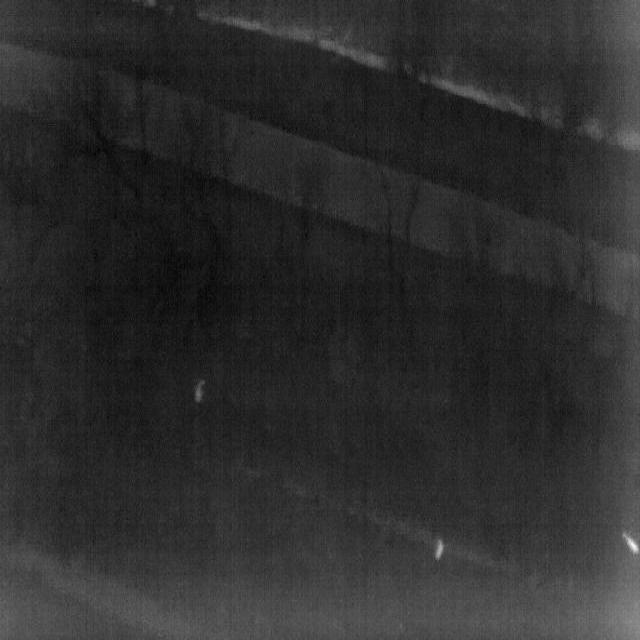deer: (621, 530, 640, 556), (433, 540, 446, 562), (194, 380, 206, 402)
